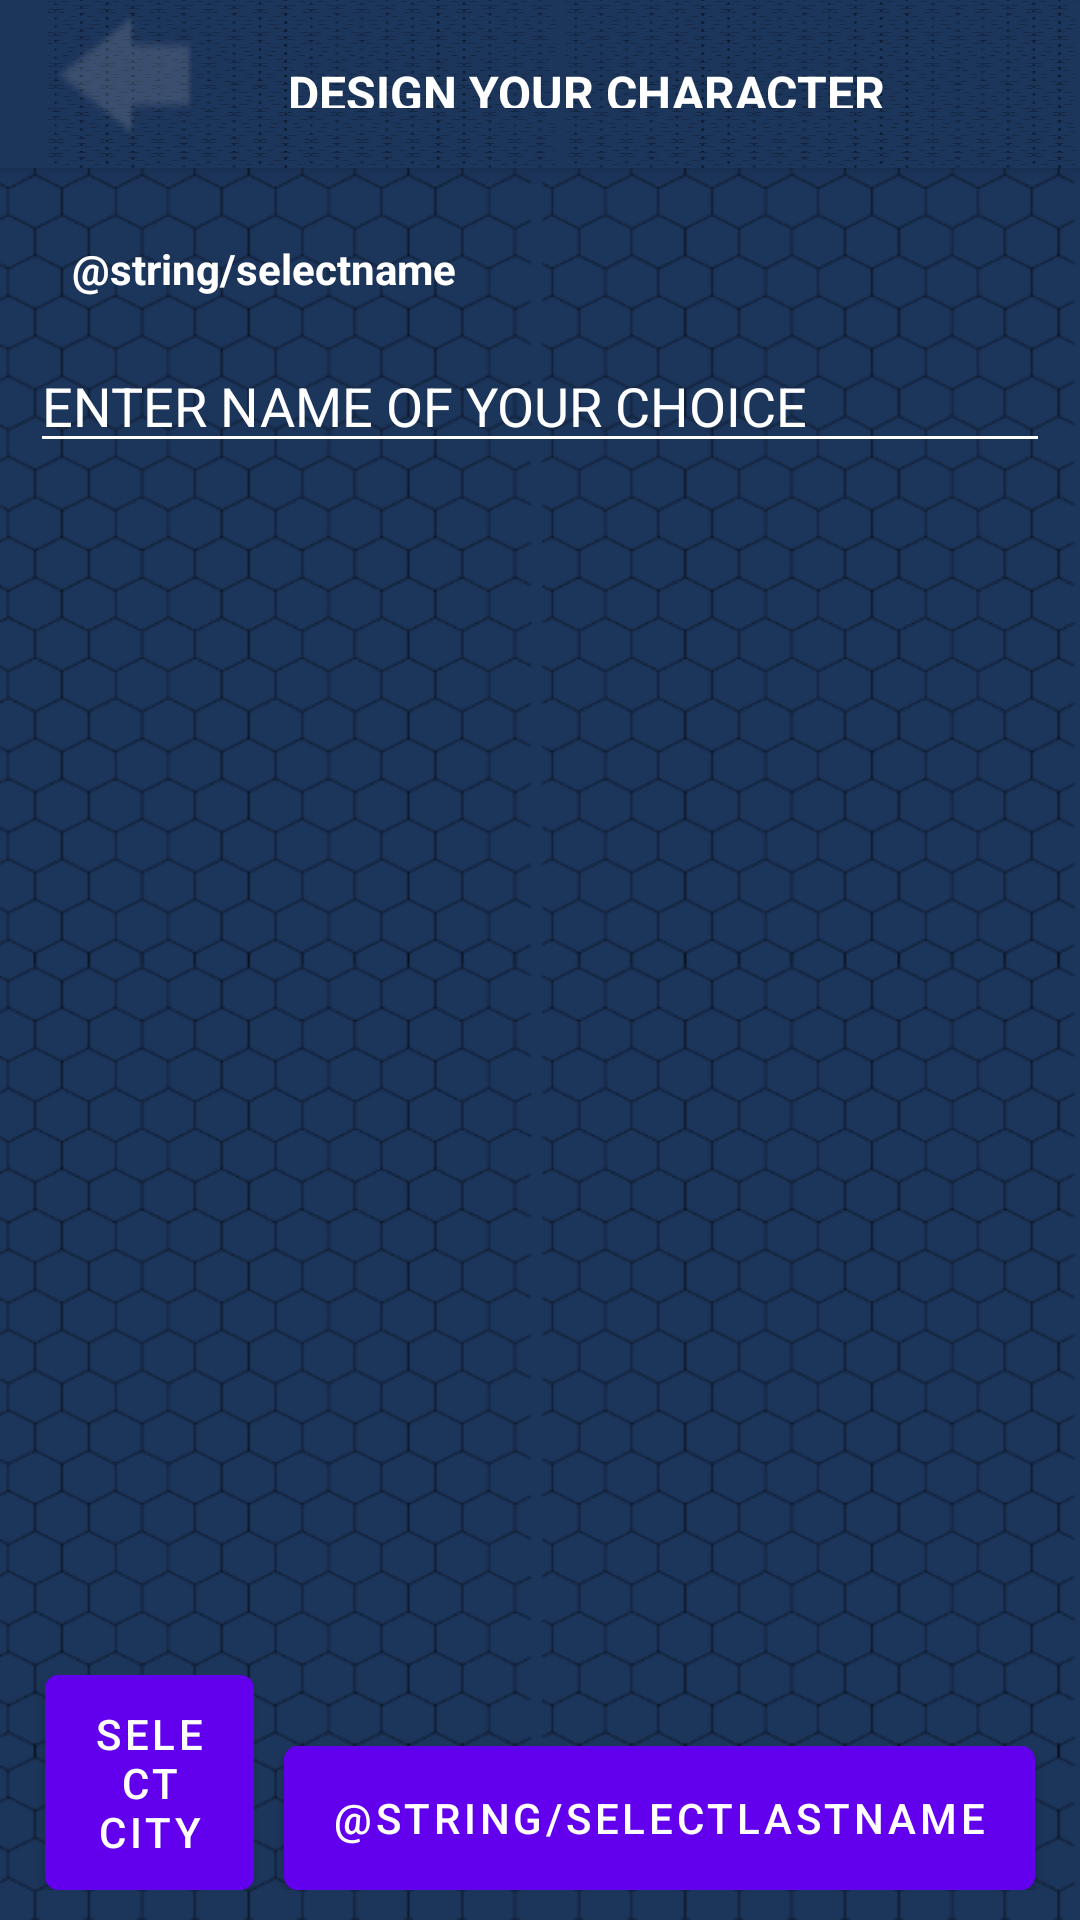

Locate icon controls on the screen. Image size 1080w x 1920h, boxes as (x1, y1, x2, y2).
previous: (51, 0, 228, 168)
